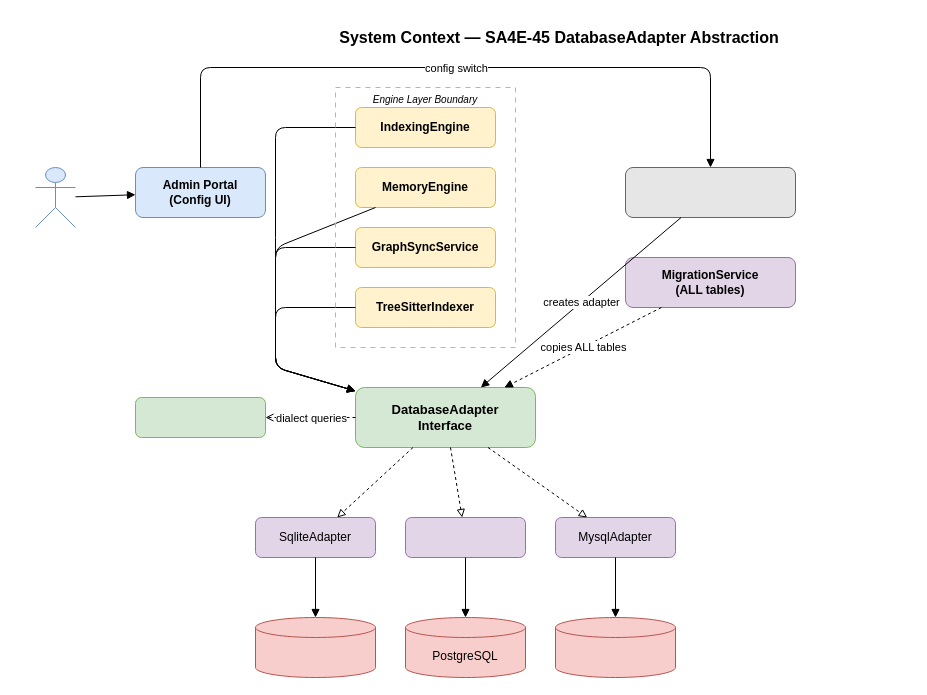
Some shapes in this 927 by 695 pixel diagram are drawn without their labels. The shapes that lost their labels are listed below. From the top down, each one's centre as x and y in pixels, then its label:
At (x=55, y=197): "System Admin".
At (x=710, y=192): "DatabaseAdapterFactory".
At (x=200, y=417): "DialectHelper".
At (x=465, y=537): "PostgresAdapter".
At (x=315, y=647): "SQLite DB".
At (x=615, y=647): "MySQL".
